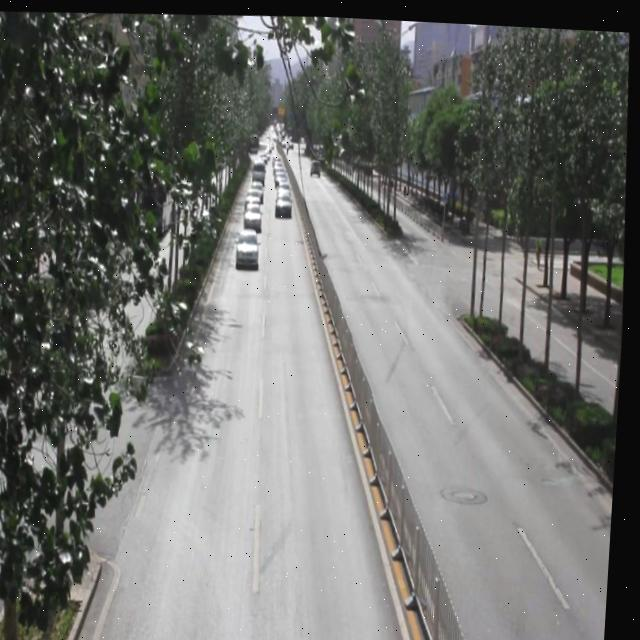car: (237, 222, 262, 264), (244, 196, 264, 228), (275, 185, 294, 214)
